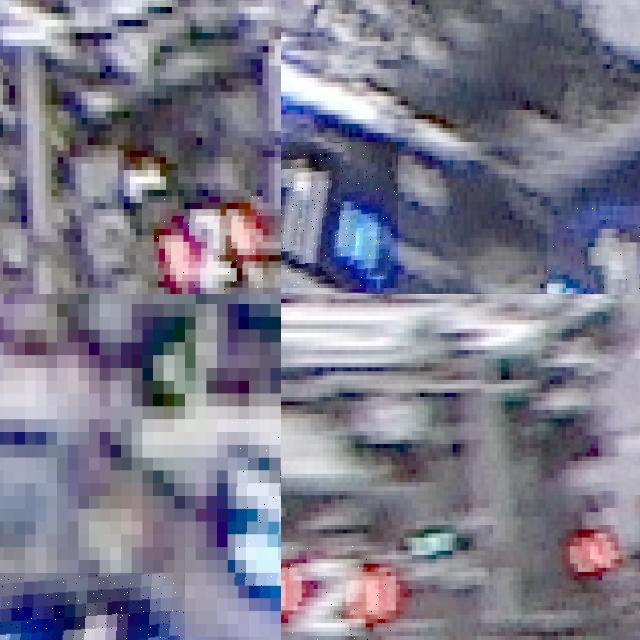B1: (281, 141, 397, 288), (547, 205, 640, 294)
B4: (0, 573, 185, 640), (227, 419, 281, 585)
R2: (281, 546, 396, 640), (154, 196, 263, 294)
